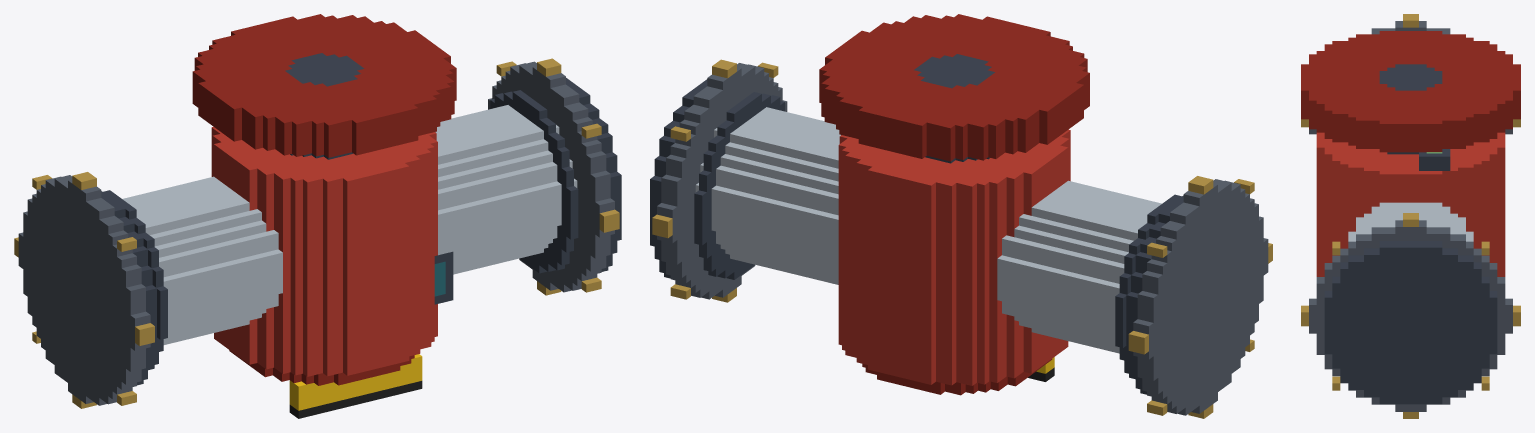
File: valve.obj
The picture shows the model from 3 angles, left to right: view 1: azimuth 30°, elevation 25°; view 2: azimuth 150°, elevation 25°; view 3: azimuth 270°, elevation 25°; orthographic projection. The views are drawn at different scales.
Visible parts, largest first — view 1: valve; view 2: valve; view 3: valve.
Part boxes in pixels (bbox=[...]): valve: bbox=[14, 14, 621, 418]; valve: bbox=[650, 14, 1272, 418]; valve: bbox=[1301, 14, 1520, 418].
Bounding box in the file's own units: 2 × 1.19 × 0.875.
